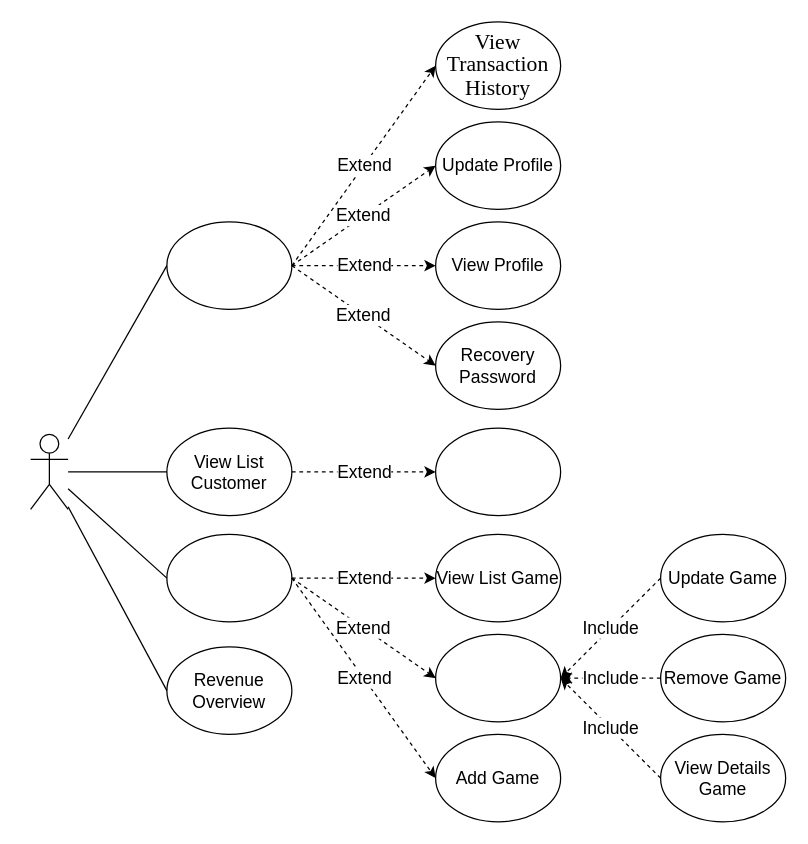
Image size: 808x844. Some labels were removed from this diagram. Here are the shapes that lost their labels. From the top down, the centre of each, then its label:
the point at 229,265: Manage Account
the point at 48,471: Admin
the point at 497,471: Search Customer
the point at 229,577: Manage Games
the point at 497,677: Search Game
